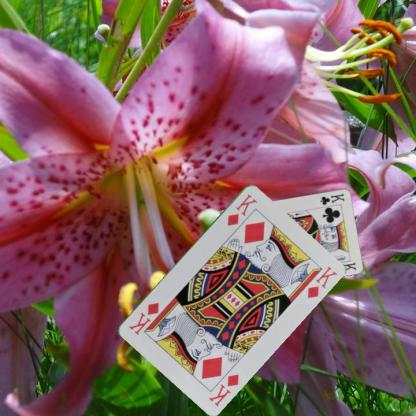Kc: (318, 190, 345, 206)
Kd: (224, 191, 259, 227), (206, 371, 240, 407)
